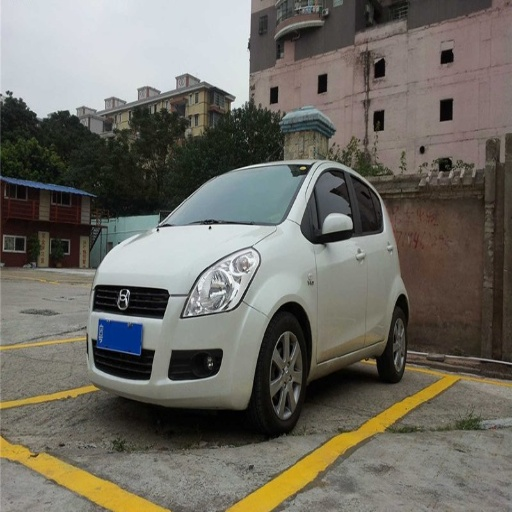front_bumper: (87, 274, 269, 407)
front_glass: (161, 165, 305, 226)
front_left_door: (305, 164, 365, 360)
